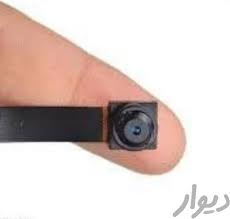Camera: (104, 96, 166, 157)
